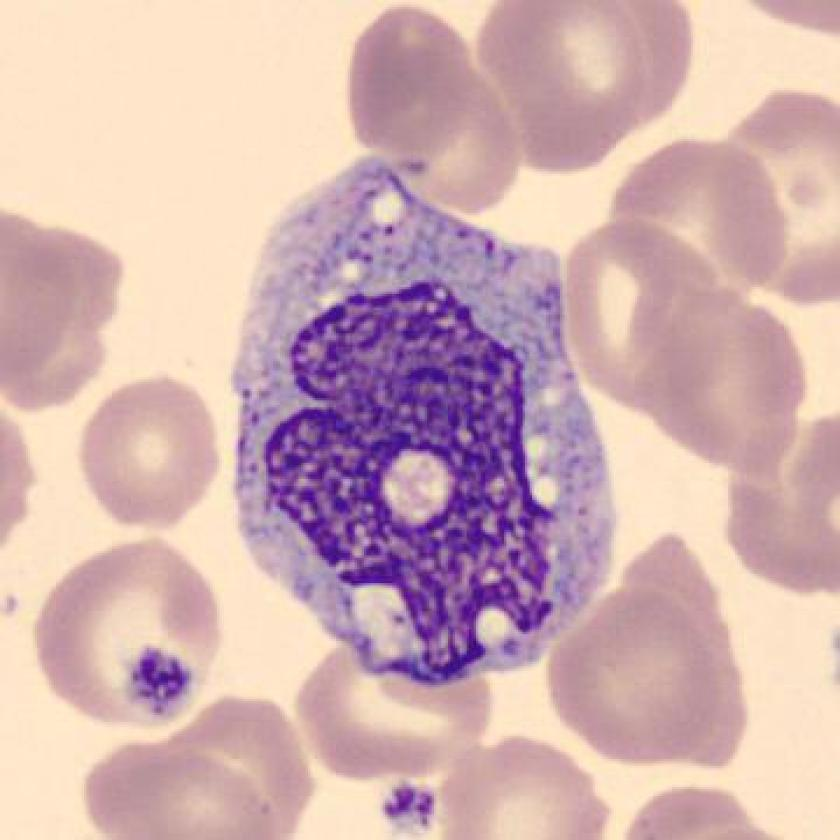monocyte: (209, 145, 631, 702)
